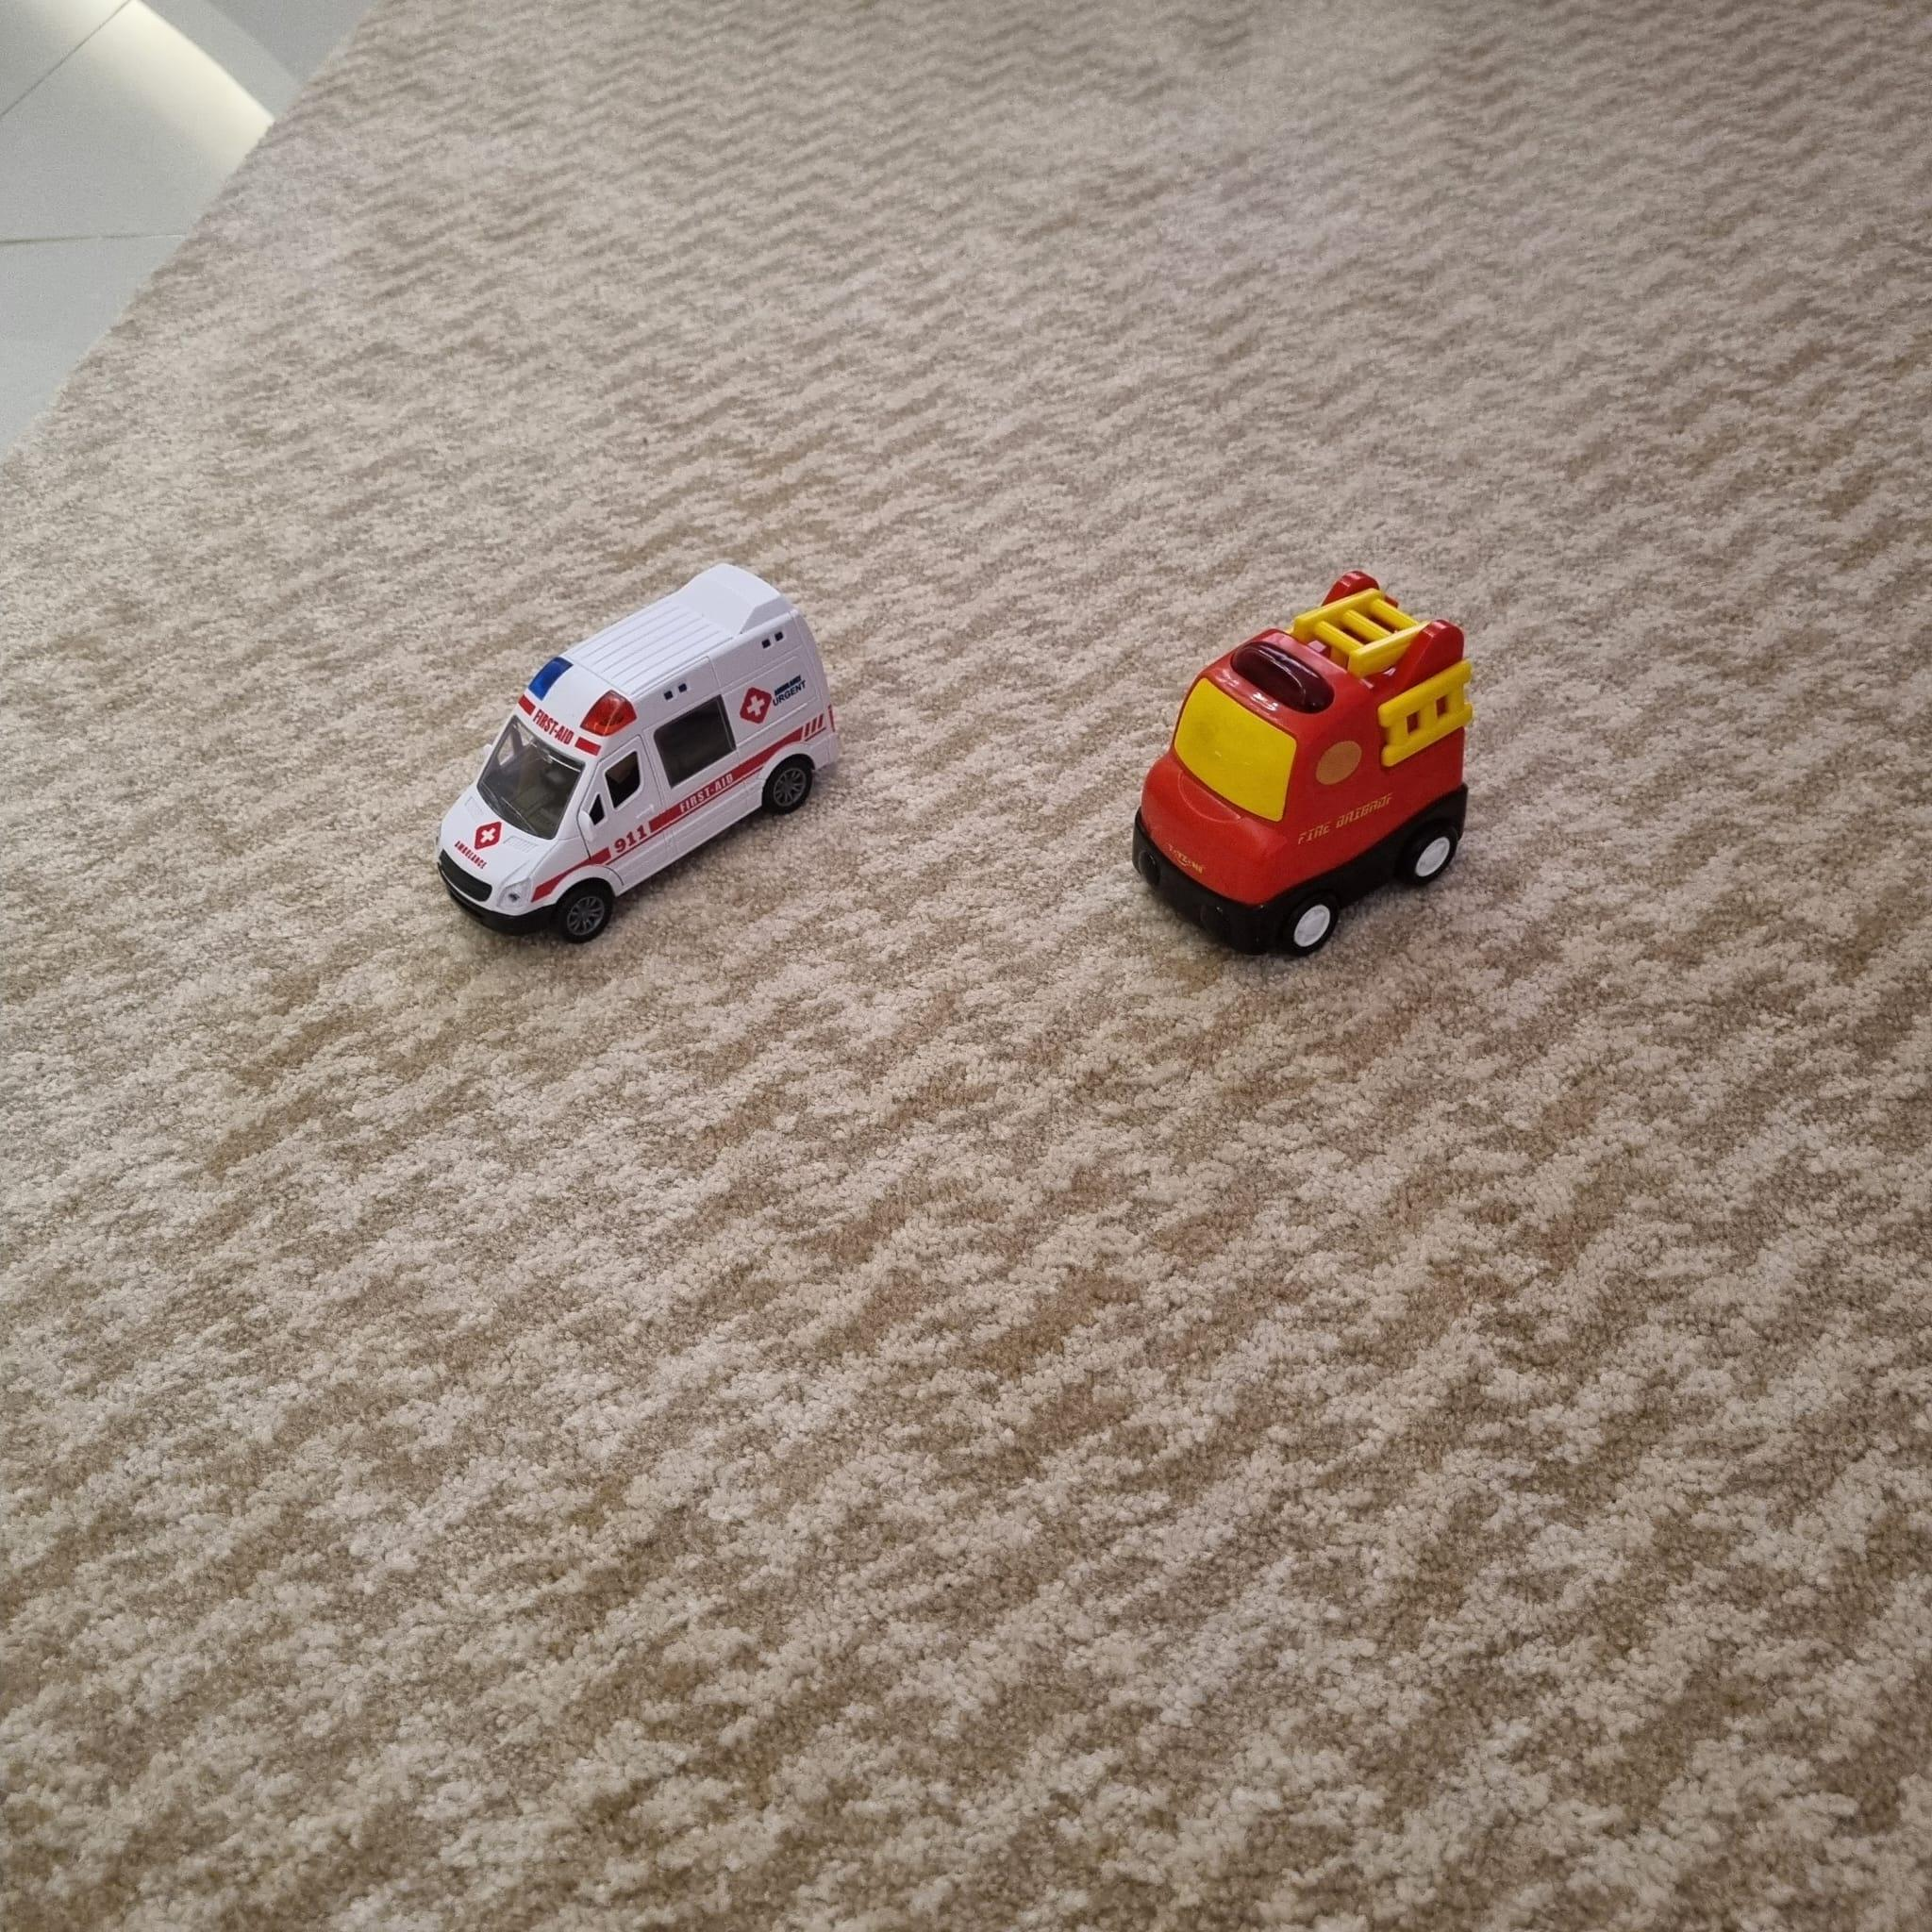ambulance_off: (433, 564, 840, 941)
firetruck_off: (1132, 570, 1465, 959)
